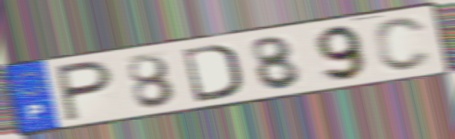8: (250, 34, 305, 91), (125, 53, 177, 110)
9: (311, 23, 370, 83)
C: (371, 15, 435, 74)
D: (179, 41, 244, 104)
P: (54, 59, 116, 124)
